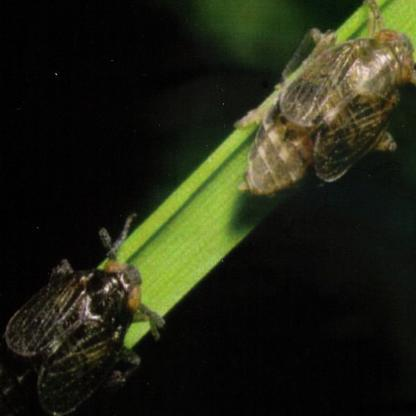rice-bug: (242, 19, 412, 198), (3, 218, 154, 412)
